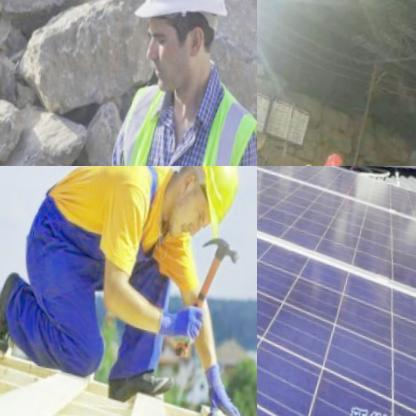helmet: (114, 0, 249, 111), (158, 166, 249, 241), (319, 144, 349, 166)
